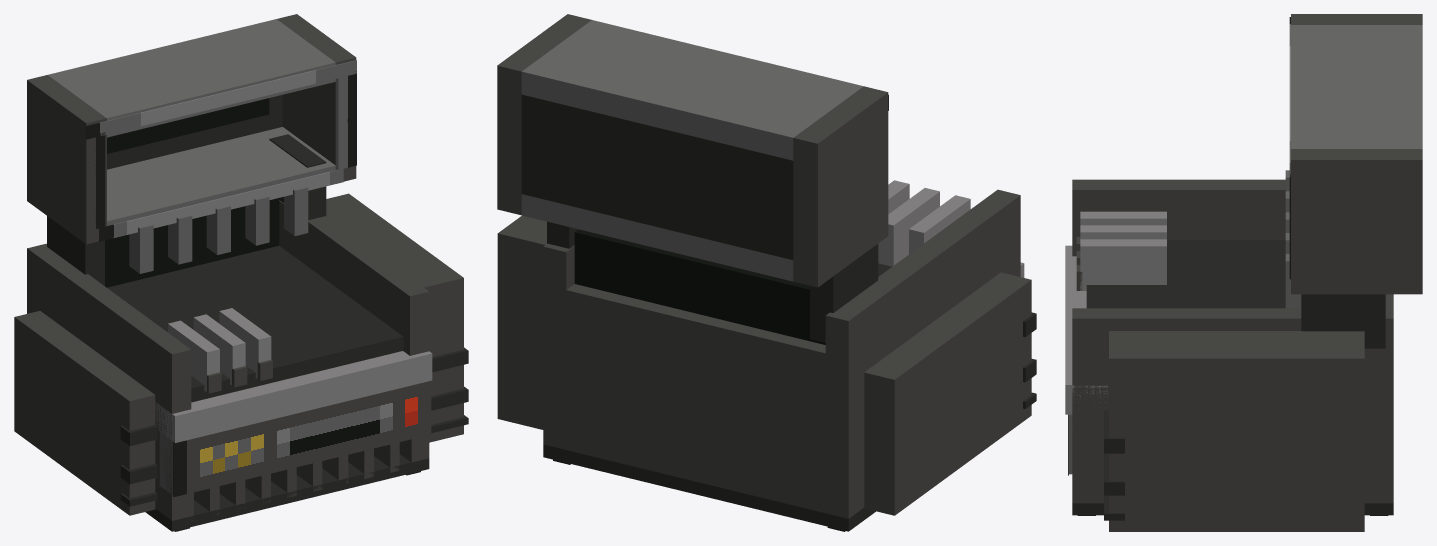
File: CMU3DColonyProcessorCloud.glb
The picture shows the model from 3 angles, left to right: view 1: azimuth 30°, elevation 25°; view 2: azimuth 150°, elevation 25°; view 3: azimuth 270°, elevation 25°; orthographic projection. The views are drawn at different scales.
Visible parts, largest first — view 1: recessed feed tray bottom, side drive casing 1, hopper top rail, original gold control row slot and red indicator, hopper bottom sill, left feed rim, front mid-height silver rail, hopper left thick side, side drive casing 2, right feed rim, left cabinet wall, hopper right thick side (+28 smaller); view 2: rear cabinet shell, hopper recessed back, side drive casing 1, hopper top rail, hopper left thick side, feed throat dark back, left feed rim, left cabinet wall, side drive casing 2, hopper bottom sill, hopper right thick side, lower chassis floor (+6 smaller); view 3: side drive casing 2, hopper right thick side, hopper top rail, left feed rim, recessed feed tray bottom, right cabinet wall, right feed rim, source short intake roller 3, right hopper support, front mid-height silver rail, hopper left thick side, source short intake roller 1 (+5 smaller).
Boxes of the visible parts, <box> form: recessed feed tray bottom: <box>107,246,403,402</box>; side drive casing 1: <box>14,311,155,515</box>; hopper top rail: <box>48,19,335,137</box>; original gold control row slot and red indicator: <box>173,381,431,496</box>; hopper bottom sill: <box>107,127,335,225</box>; left feed rim: <box>27,243,191,412</box>; front mid-height silver rail: <box>155,351,432,442</box>; hopper left thick side: <box>27,75,106,244</box>; side drive casing 2: <box>326,193,463,442</box>; right feed rim: <box>279,200,429,355</box>; left cabinet wall: <box>27,283,189,520</box>; hopper right thick side: <box>277,14,356,181</box>; rear cabinet shell: <box>564,284,827,513</box>; hopper recessed back: <box>521,94,793,259</box>; side drive casing 1: <box>864,272,1031,515</box>; hopper top rail: <box>521,20,863,160</box>; hopper left thick side: <box>793,86,888,287</box>; feed throat dark back: <box>574,229,825,344</box>; left feed rim: <box>825,189,1020,389</box>; left cabinet wall: <box>827,236,1020,518</box>; side drive casing 2: <box>497,215,546,429</box>; hopper bottom sill: <box>521,194,793,281</box>; hopper right thick side: <box>497,14,591,215</box>; lower chassis floor: <box>543,444,875,531</box>; side drive casing 2: <box>1109,331,1364,531</box>; hopper right thick side: <box>1291,149,1422,294</box>; hopper top rail: <box>1291,25,1422,148</box>; left feed rim: <box>1072,179,1285,256</box>; recessed feed tray bottom: <box>1086,240,1285,308</box>; right cabinet wall: <box>1072,357,1393,503</box>; right feed rim: <box>1072,308,1393,384</box>; source short intake roller 3: <box>1080,239,1166,290</box>; right hopper support: <box>1301,294,1385,348</box>; front mid-height silver rail: <box>1065,245,1108,414</box>; hopper left thick side: <box>1291,14,1422,24</box>; source short intake roller 1: <box>1080,211,1166,225</box>.
Bounding box in the file's own units: 0.8225 × 0.7812 × 0.678.
11 materials, 5 textured.
